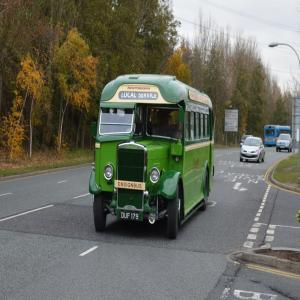Vehicle-registration-plate: (121, 214, 142, 222), (246, 154, 253, 157)
